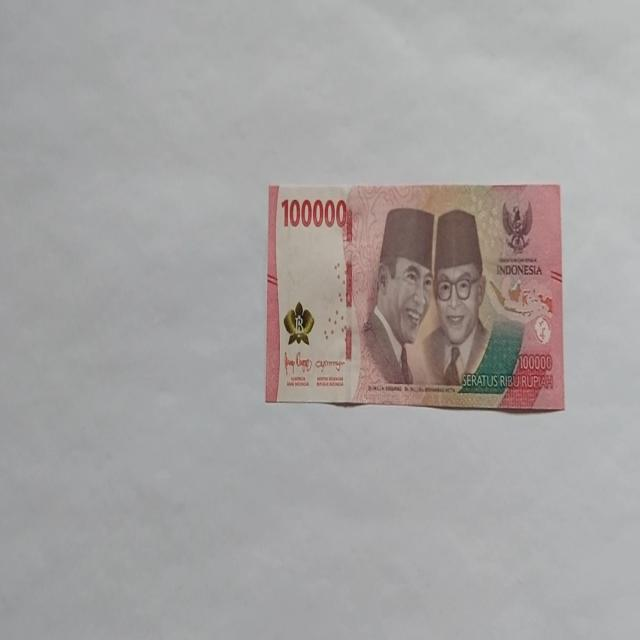seratus ribu rupiah: (264, 182, 564, 412)
